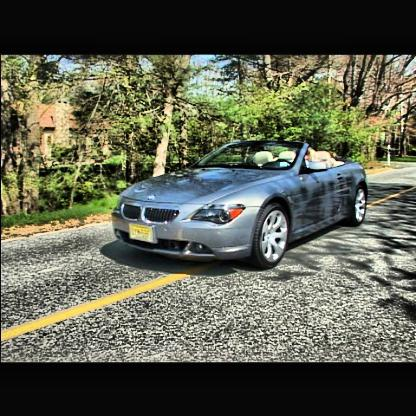BMW 6 Series Convertible 2007: (112, 138, 370, 268)
